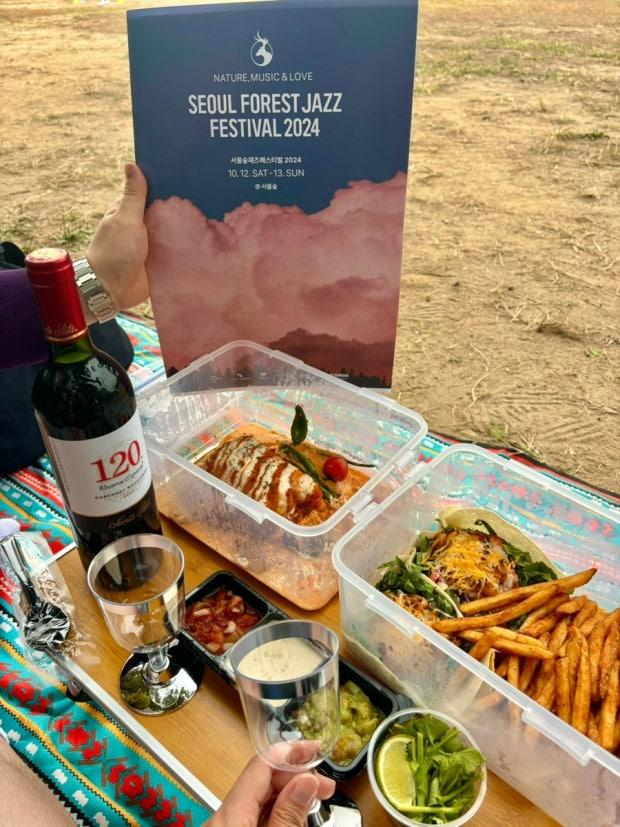Bottle: (26, 248, 160, 568)
Lunch Box: (332, 445, 619, 826), (139, 341, 426, 609), (322, 657, 406, 780)
cup: (87, 534, 198, 716), (229, 619, 339, 780), (367, 709, 485, 826)
